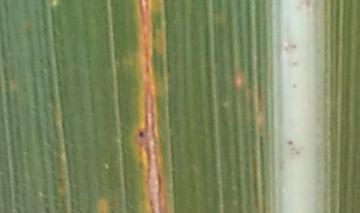tarspot: (138, 130, 146, 140)
